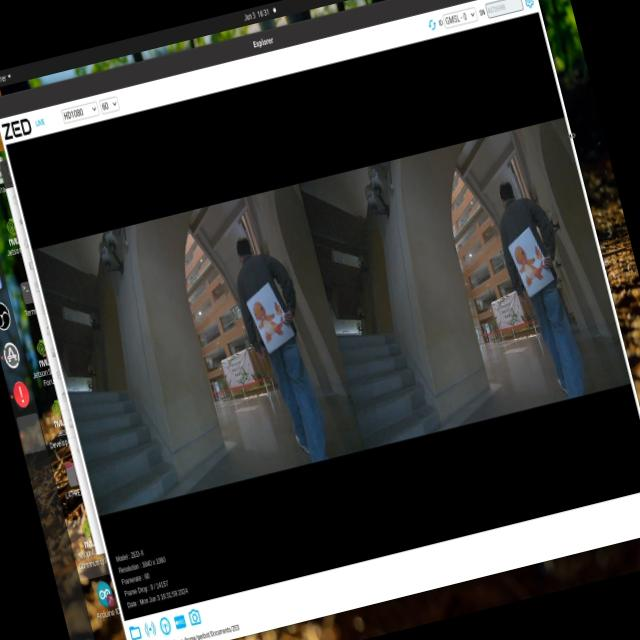red: (242, 284, 300, 354), (502, 228, 548, 284)
